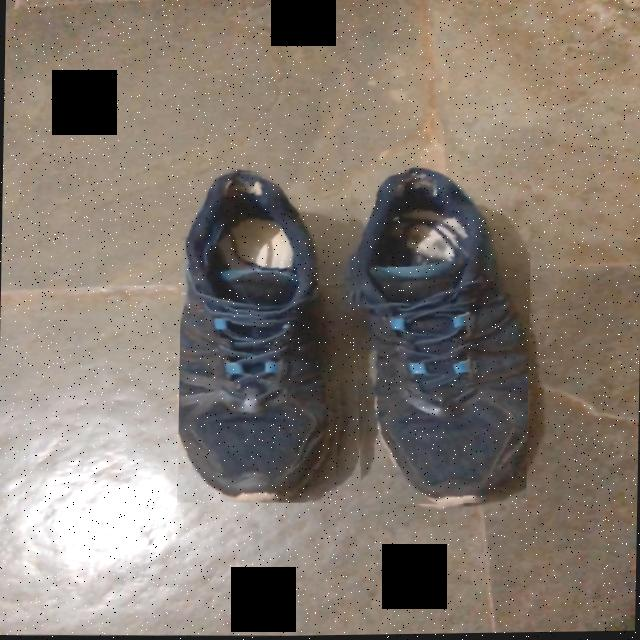shoe: (352, 169, 528, 506), (178, 172, 338, 503)
